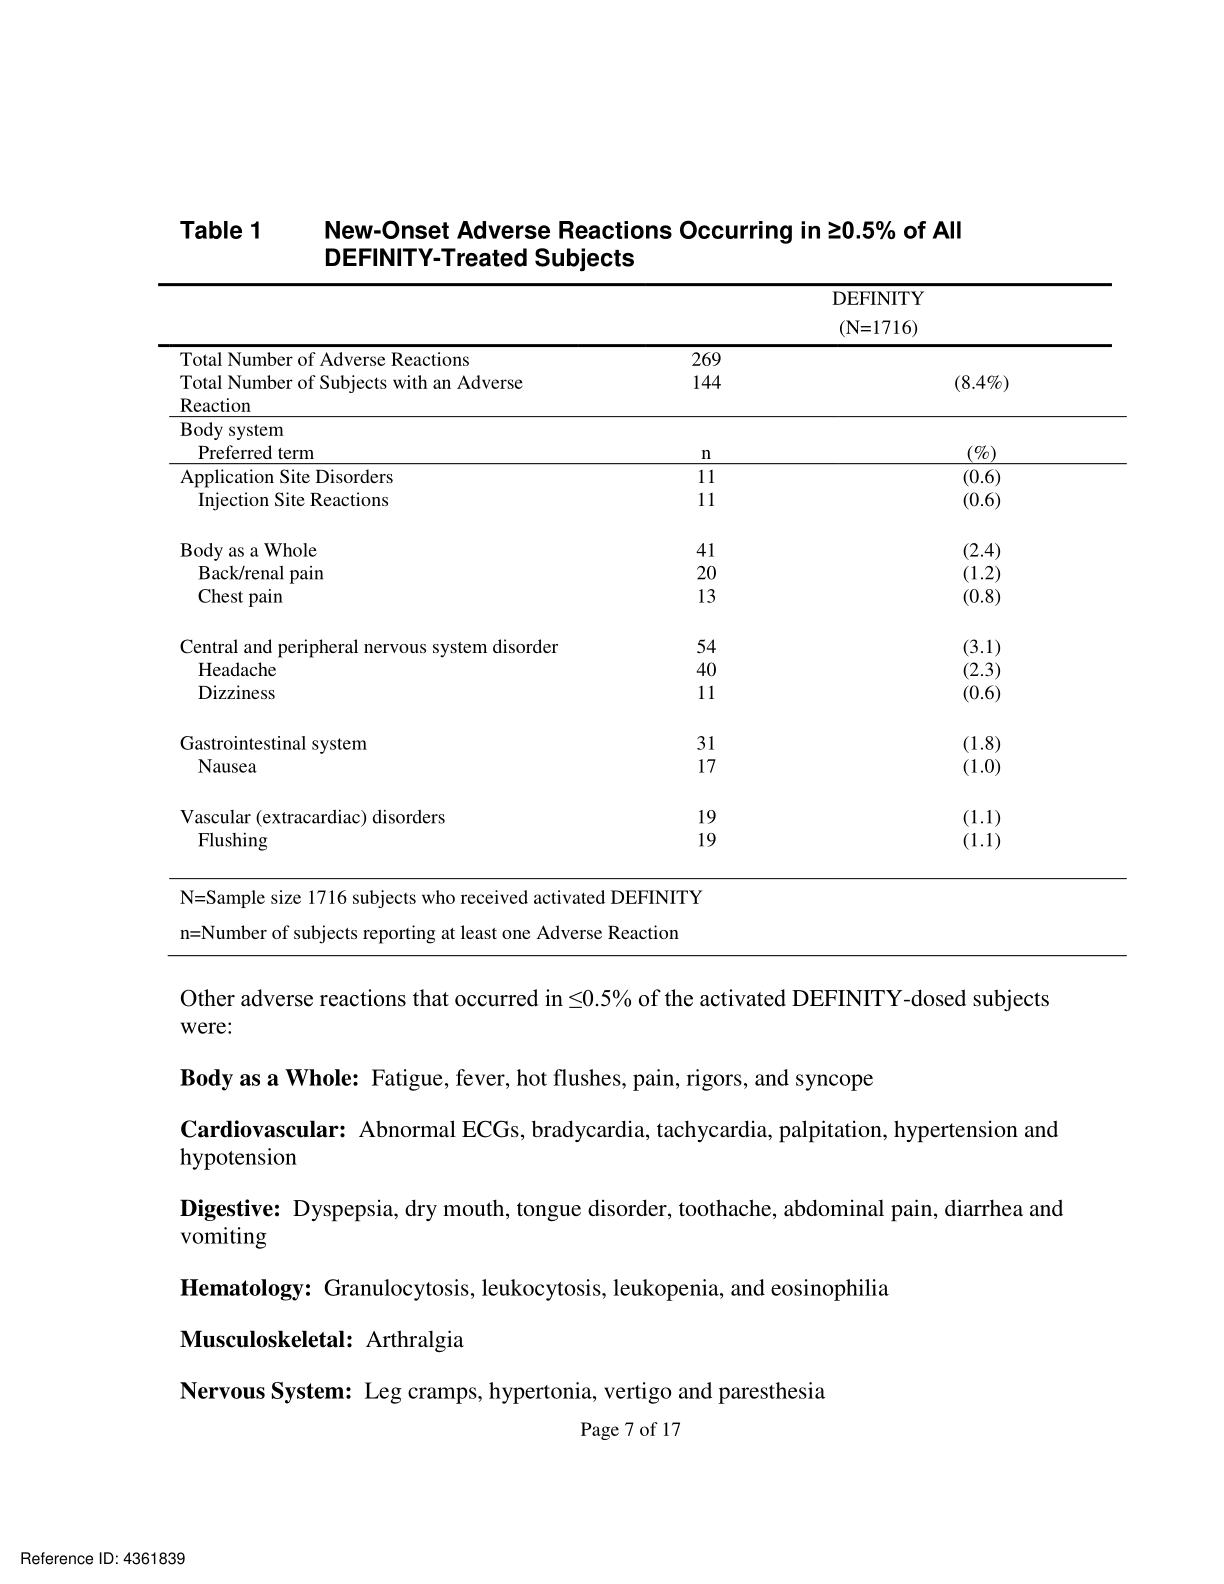partial_lined_merged_cells: (157, 280, 1131, 882)
